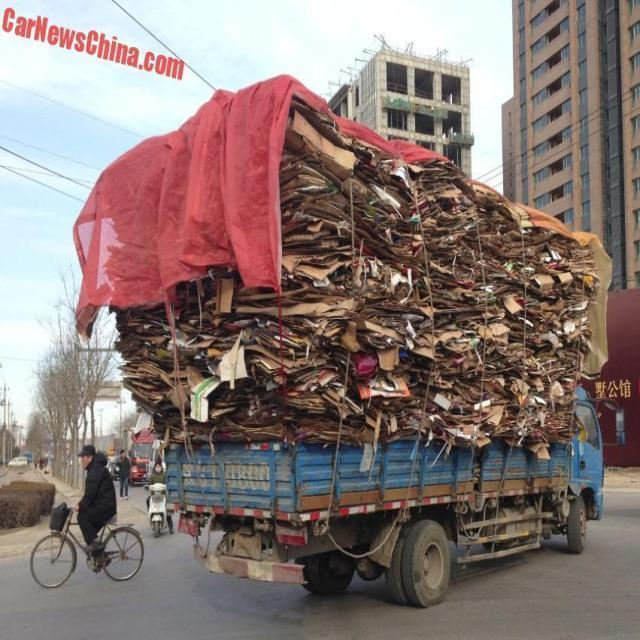covered: (68, 86, 324, 358)
uncovered: (336, 166, 580, 602)
